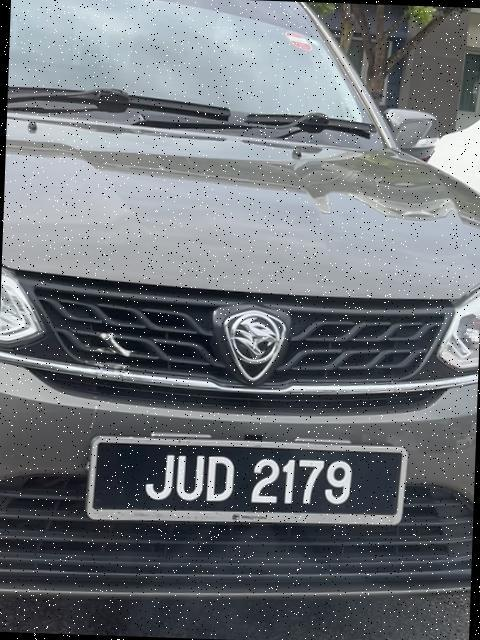JUD2179: (82, 428, 412, 534)
License_Plate: (82, 428, 412, 534)
car: (1, 1, 480, 640)
